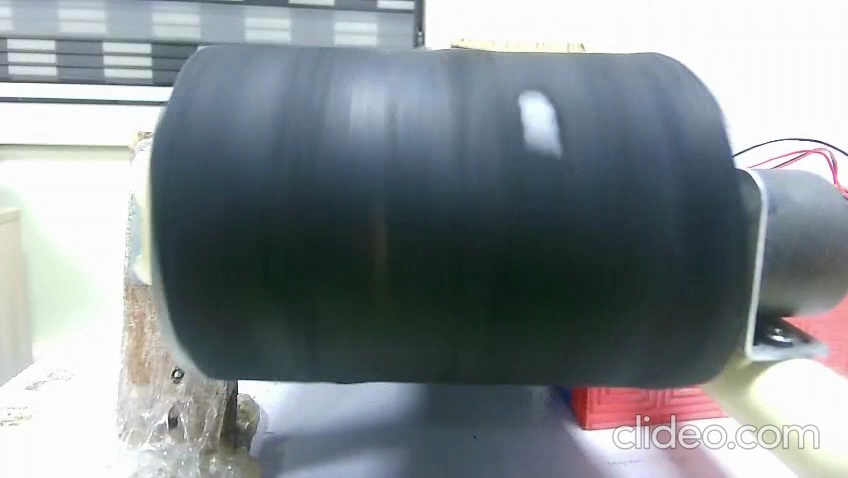hole: (511, 84, 567, 168)
